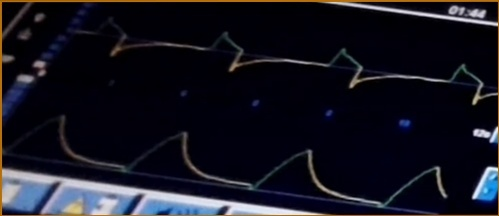Flow: (74, 16, 497, 103)
Leakage Volume: (2, 109, 447, 208)
